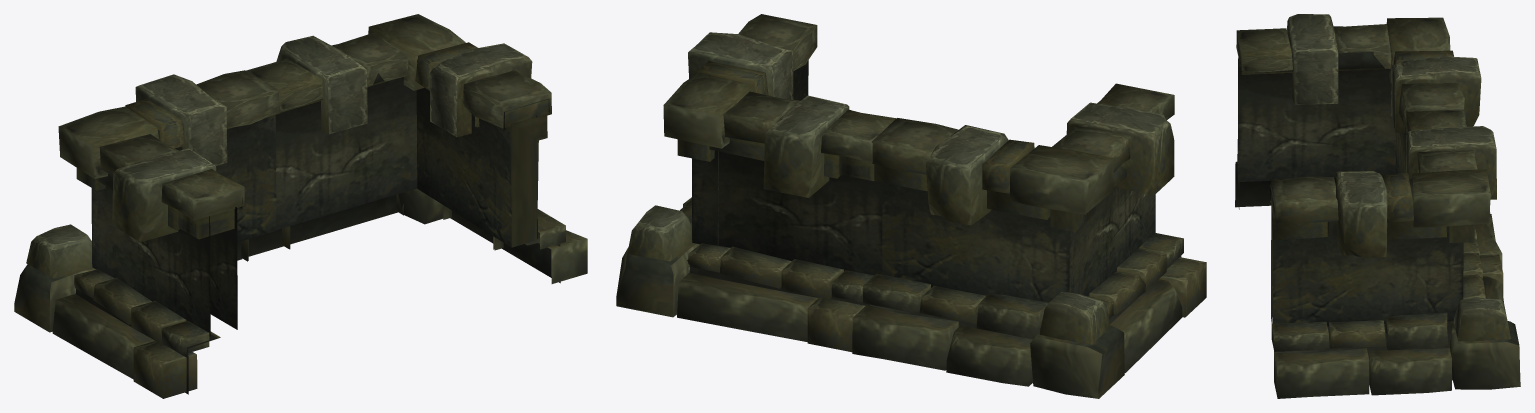
File: fxmg_wall6.FBX
3 views of the same model, side by side, from view 1: azimuth 30°, elevation 25°; view 2: azimuth 150°, elevation 25°; view 3: azimuth 270°, elevation 25° (orthographic). The views are drawn at different scales.
Visible parts, largest first — view 1: KLMSM_wall6; view 2: KLMSM_wall6; view 3: KLMSM_wall6.
Part boxes in pixels (bbox=[...]): KLMSM_wall6: bbox=[14, 14, 587, 398]; KLMSM_wall6: bbox=[616, 14, 1206, 398]; KLMSM_wall6: bbox=[1235, 14, 1520, 398].
Bounding box in the file's own units: 430 × 176 × 241.
